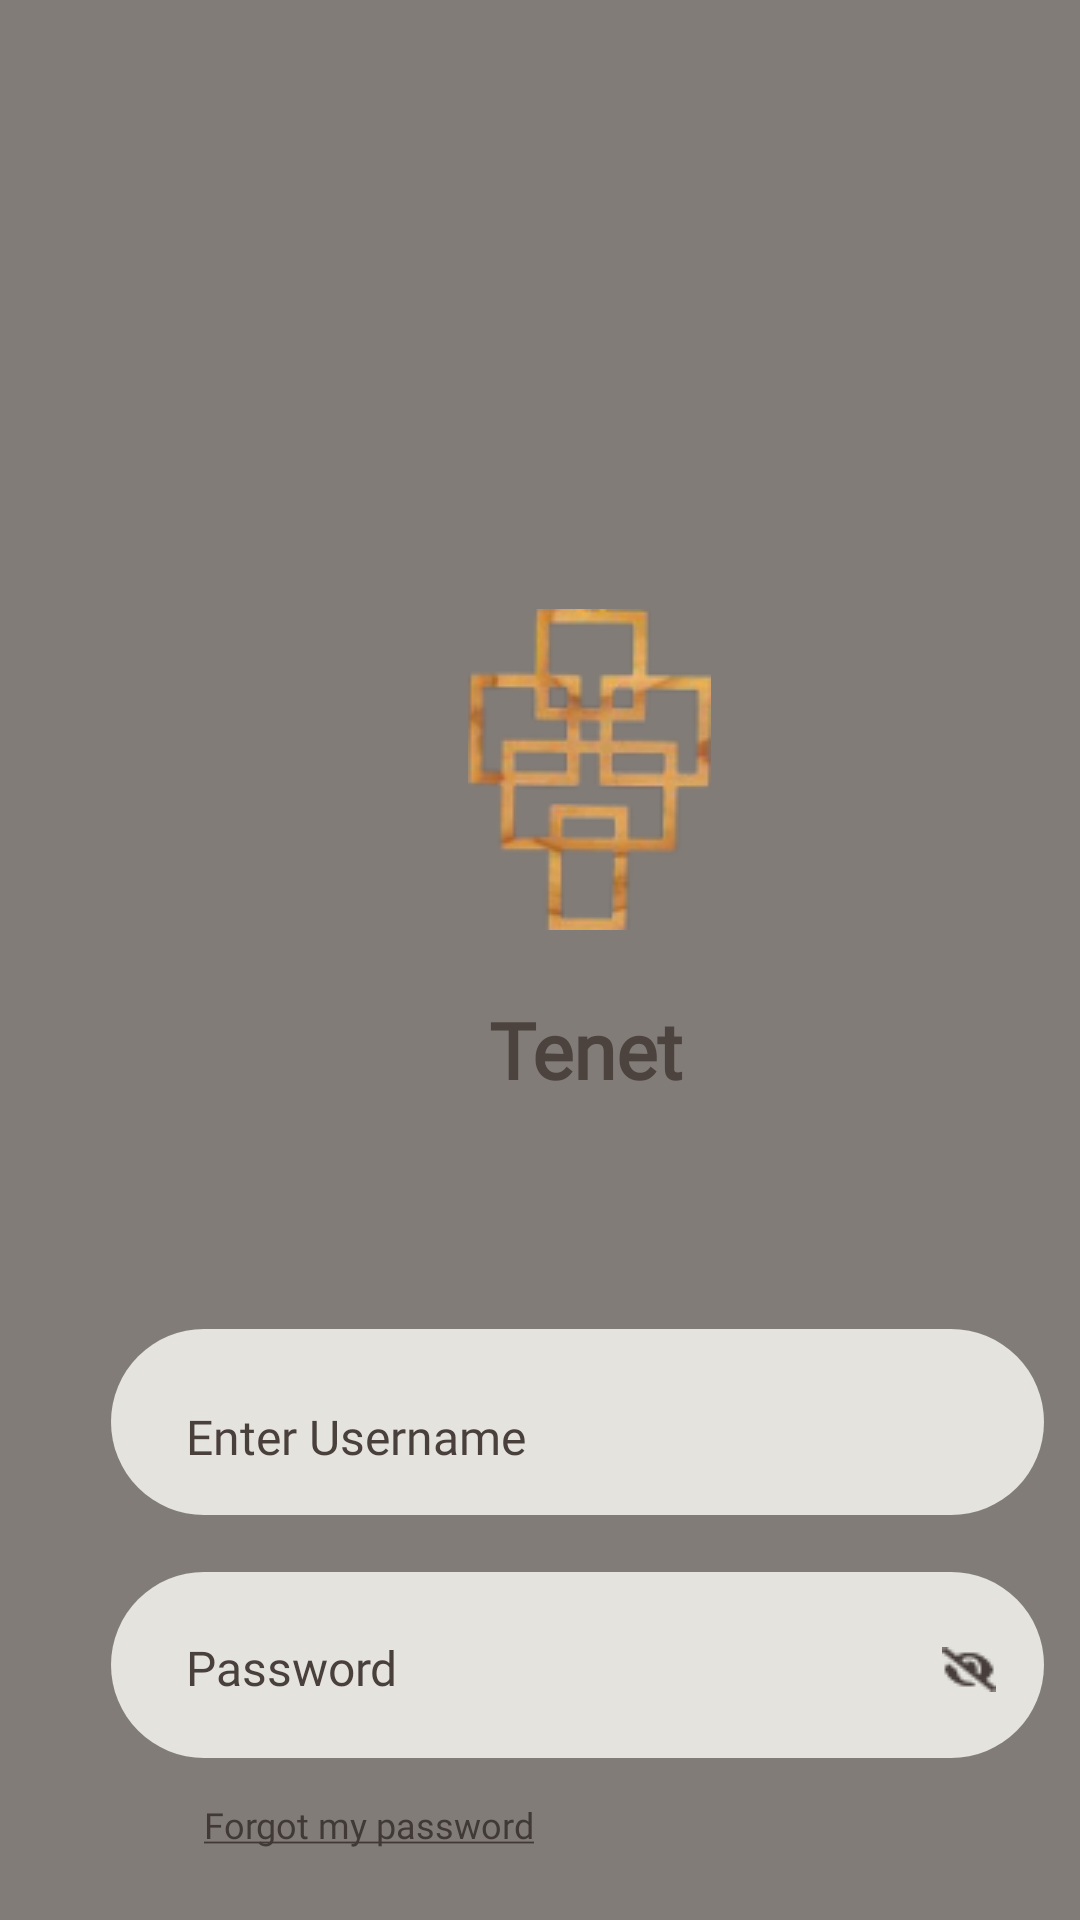

Icon bounding boxes for this 1080px x 1920px phone screenshot, format (x1, y1, x2, y2):
awesome eye slash: (942, 1647, 996, 1692)
